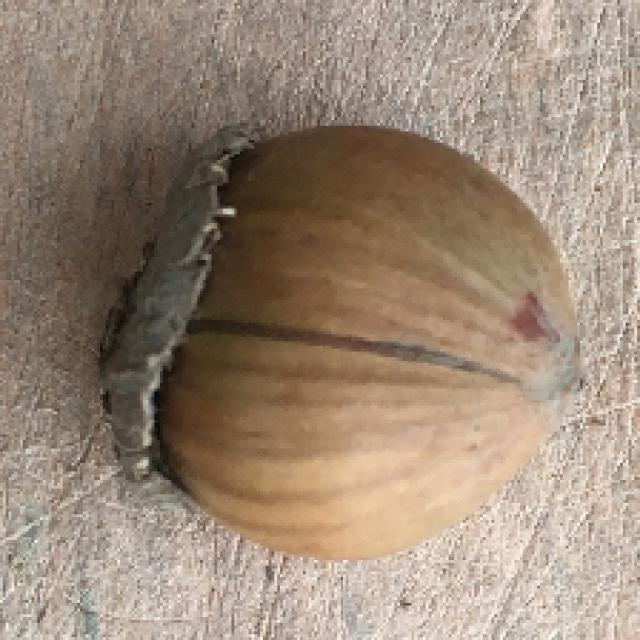damagedHazelnut: (94, 114, 592, 560)
